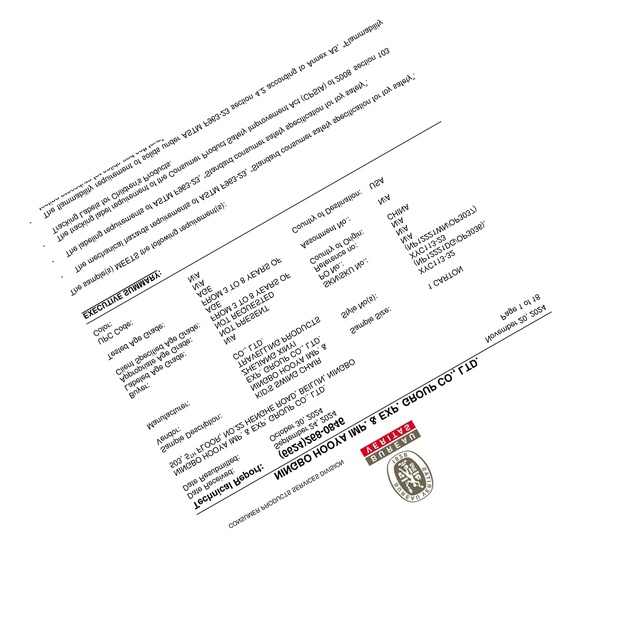bureau_veritas: (359, 418, 434, 503)
